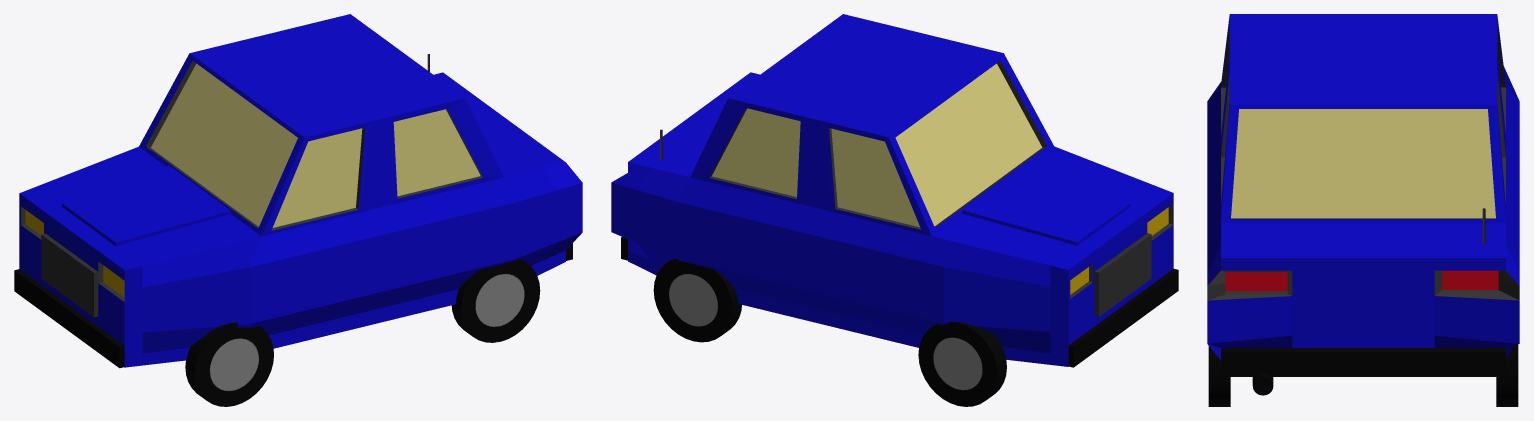
The model's file is Car_base.fbx.
3 views of the same model, side by side, from view 1: azimuth 30°, elevation 25°; view 2: azimuth 150°, elevation 25°; view 3: azimuth 270°, elevation 25° (orthographic). The views are drawn at different scales.
Visible parts, largest first — view 1: Car, Front Wheels, Rear Wheels; view 2: Car, Front Wheels, Rear Wheels; view 3: Car, Rear Wheels.
Boxes of the visible parts, box(x1,y1,x2,y2) form: Car: box(14, 14, 582, 368); Front Wheels: box(185, 322, 273, 406); Rear Wheels: box(451, 259, 540, 342); Car: box(611, 14, 1178, 367); Front Wheels: box(918, 321, 1006, 406); Rear Wheels: box(653, 258, 741, 342); Car: box(1207, 14, 1519, 395); Rear Wheels: box(1208, 344, 1518, 406).
Size of the model in its own units: 7.58 by 3.89 by 3.9.
